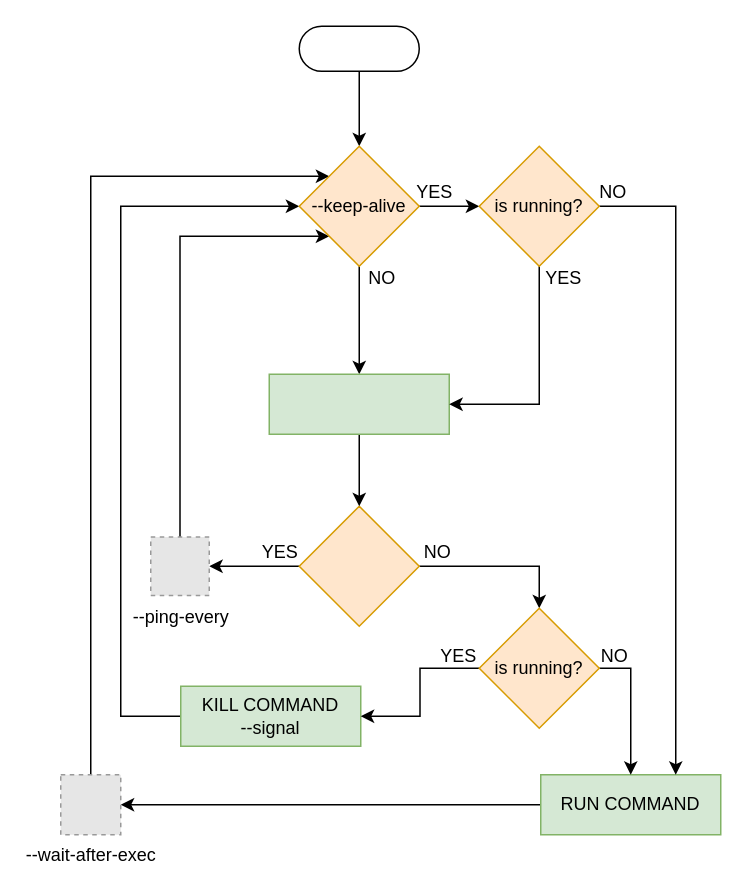
Some shapes in this 747 by 893 pixel diagram are drawn without their labels. Grey dashed boxes stand in for pictures. Each missing label, with the box of its shape:
PING --hosts, --ping-opt: (268, 373, 449, 434)
pong?: (298, 505, 419, 626)
START: (298, 25, 419, 71)
